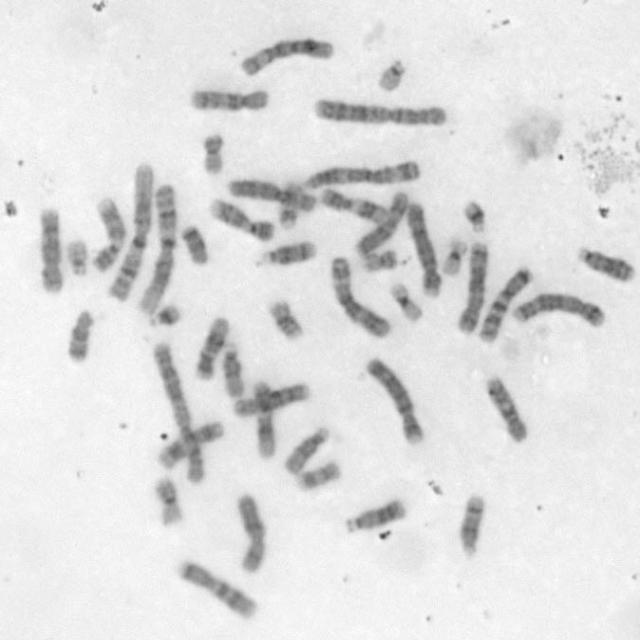A1: (102, 159, 156, 305), (136, 180, 178, 317)
A2: (147, 338, 207, 488), (308, 91, 452, 129)
A3: (327, 252, 392, 340), (300, 156, 423, 191)
B4: (363, 352, 427, 446), (402, 199, 444, 299)
B5: (509, 289, 608, 329), (453, 235, 491, 335)
C10: (480, 370, 531, 446), (186, 85, 271, 113)
C11: (153, 415, 227, 471), (316, 183, 389, 225)
C12: (191, 312, 230, 381), (248, 376, 277, 461)
C6: (237, 32, 336, 78), (224, 174, 318, 213)
C7: (174, 556, 260, 622), (473, 260, 534, 344)
C8: (230, 377, 312, 418), (34, 203, 65, 294)
C9: (205, 194, 276, 242), (88, 194, 126, 272)
D13: (573, 241, 637, 283), (341, 496, 408, 534)
D14: (455, 490, 487, 559), (254, 235, 320, 268)
D15: (280, 421, 331, 475), (219, 339, 247, 400)
E16: (264, 295, 305, 343), (150, 472, 185, 528)
E17: (292, 455, 344, 493), (273, 176, 303, 230)
E18: (63, 304, 96, 364), (177, 220, 210, 267)
F19: (386, 277, 424, 323), (438, 232, 470, 278)
F20: (357, 244, 401, 274), (198, 129, 226, 176)
G21: (144, 298, 184, 329), (459, 195, 489, 234)
G22: (373, 52, 408, 93), (62, 234, 90, 279)
X: (352, 186, 411, 256), (230, 489, 270, 574)
